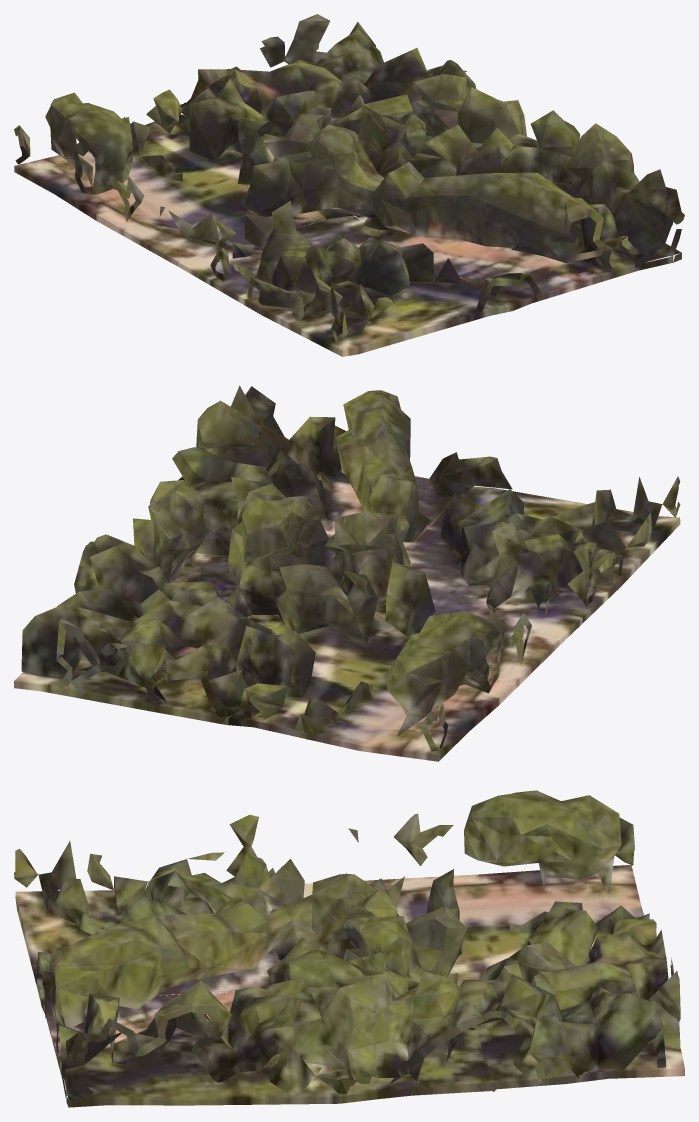
The picture shows the model from 3 angles, top to bottom: view 1: azimuth 30°, elevation 25°; view 2: azimuth 150°, elevation 25°; view 3: azimuth 270°, elevation 25°; orthographic projection. The views are drawn at different scales.
Parts seen in each view (by area): view 1: Mesh_0; view 2: Mesh_0; view 3: Mesh_0.
Part boxes in pixels (x1=…): Mesh_0: x1=14, y1=14, x2=684, y2=356; Mesh_0: x1=14, y1=385, x2=680, y2=761; Mesh_0: x1=14, y1=790, x2=684, y2=1107.
Bounding box in the file's own units: 134 × 32.9 × 165.
Materials: 1 (1 with a texture image).
